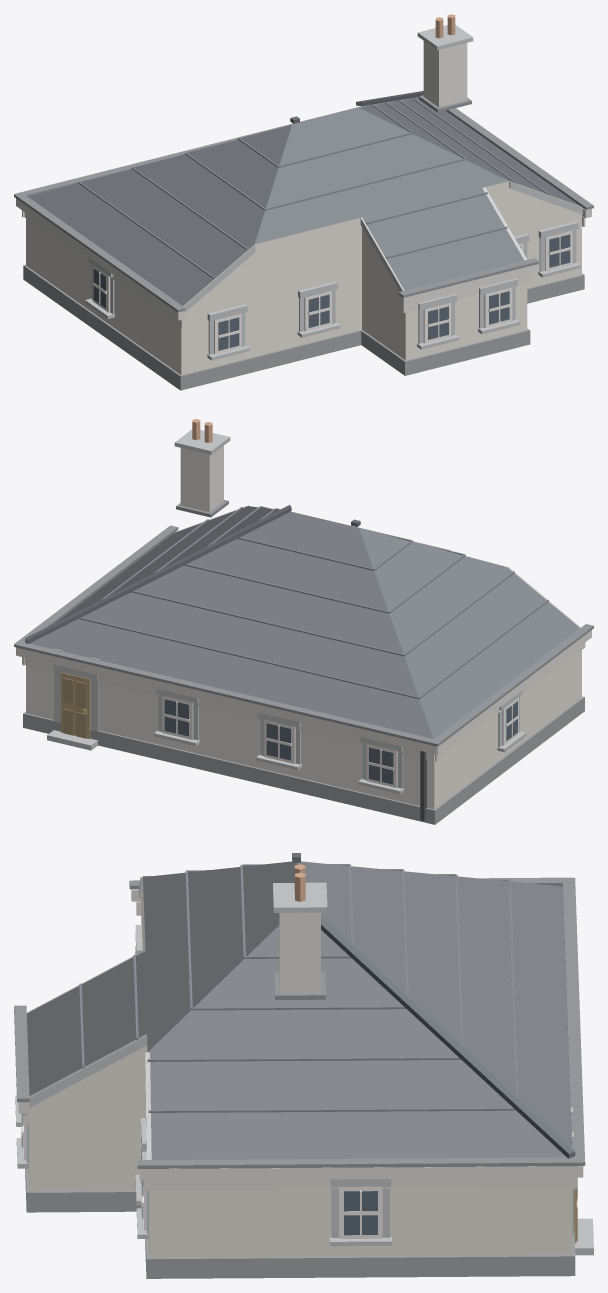
3 views of the same model, one above another, from view 1: azimuth 30°, elevation 25°; view 2: azimuth 150°, elevation 25°; view 3: azimuth 270°, elevation 25° (orthographic). The views are drawn at different scales.
Parts seen in each view (by area): view 1: slate, harl_cream, plinth, stone_band, lead, slate_lt, string, frame, chim_render, window_glass_005, window_glass_010, window_glass_006 (+2 smaller); view 2: slate, harl_cream, plinth, string, lead, stone_band, slate_lt, chim_render, frame, slate_dk, door_wood_p, door_wood (+3 smaller); view 3: slate, harl_cream, plinth, lead, string, stone_band, slate_lt, slate_dk, chim_render, frame, window_glass_011.
Part boxes in pixels (left/top/right/bottom): slate: left=29, top=98, right=579, bottom=305; harl_cream: left=26, top=181, right=581, bottom=375; plinth: left=23, top=264, right=584, bottom=390; stone_band: left=85, top=25, right=582, bottom=360; lead: left=14, top=90, right=593, bottom=312; slate_lt: left=78, top=98, right=549, bottom=278; string: left=16, top=198, right=591, bottom=327; frame: left=92, top=230, right=572, bottom=354; chim_render: left=423, top=41, right=467, bottom=107; window_glass_005: left=218, top=317, right=239, bottom=350; window_glass_010: left=549, top=234, right=570, bottom=267; window_glass_006: left=308, top=294, right=329, bottom=327; slate: left=29, top=506, right=579, bottom=738; harl_cream: left=26, top=650, right=581, bottom=809; plinth: left=23, top=696, right=584, bottom=824; string: left=16, top=531, right=591, bottom=761; lead: left=14, top=500, right=593, bottom=746; stone_band: left=47, top=429, right=580, bottom=794; slate_lt: left=78, top=506, right=548, bottom=698; chim_render: left=180, top=446, right=223, bottom=512; frame: left=162, top=695, right=518, bottom=787; slate_dk: left=25, top=505, right=360, bottom=643; door_wood_p: left=63, top=678, right=86, bottom=738; door_wood: left=61, top=672, right=90, bottom=738; slate: left=27, top=861, right=571, bottom=1159; harl_cream: left=28, top=883, right=572, bottom=1257; plinth: left=25, top=1168, right=575, bottom=1278; lead: left=14, top=877, right=585, bottom=1168; string: left=18, top=889, right=583, bottom=1190; stone_band: left=15, top=877, right=593, bottom=1255; slate_lt: left=79, top=863, right=518, bottom=1112; slate_dk: left=292, top=853, right=575, bottom=1158; chim_render: left=279, top=912, right=320, bottom=993; frame: left=21, top=950, right=382, bottom=1238; window_glass_011: left=344, top=1191, right=377, bottom=1235.
Size of the model in its own units: 14.08 by 8 by 11.98.
